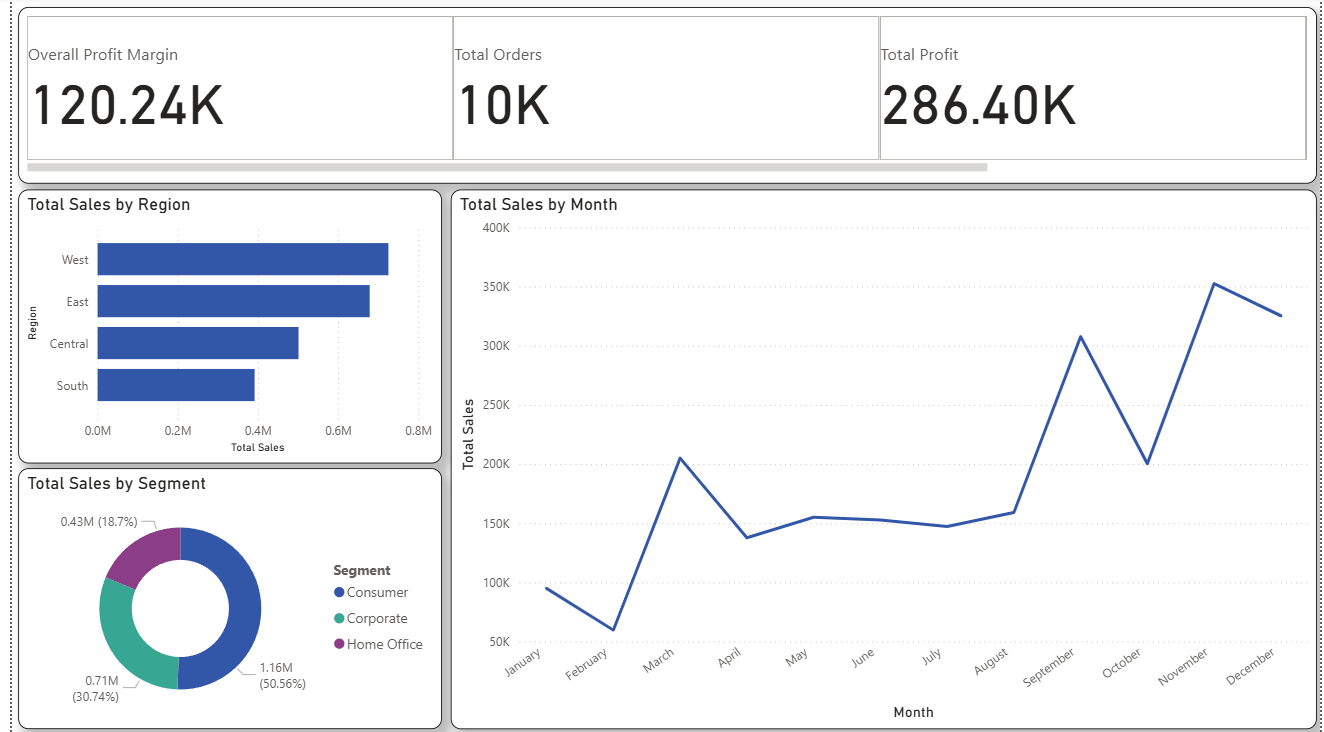

The dashboard page shown, as its layout file describes it:
{"tool":"powerbi","page":{"name":"Executive Overview","canvas":[1280,720],"ordinal":0},"visuals":[{"type":"cardVisual","fields":{"Data":["KPI.Overall Profit Margin","KPI.Total Orders","KPI.Total Profit","KPI.Total Sales"]},"box":[6.1,9.8,1270.5,172.4],"z":0},{"type":"barChart","fields":{"Y":["KPI.Total Sales"],"Category":["superstore_clean.Region"]},"box":[6.1,188.3,414.5,267.8],"z":1000},{"type":"donutChart","fields":{"Y":["KPI.Total Sales"],"Category":["superstore_clean.Segment"]},"box":[6.1,461,414.5,255.6],"z":2000},{"type":"lineChart","fields":{"Y":["KPI.Total Sales"],"Category":["superstore_clean.Order Date.Variation.Date Hierarchy.Year","superstore_clean.Order Date.Variation.Date Hierarchy.Quarter","superstore_clean.Order Date.Variation.Date Hierarchy.Month","superstore_clean.Order Date.Variation.Date Hierarchy.Day"]},"box":[429.2,188.3,847.4,528.3],"z":3000}]}

Visuals, with their boxes in screenshot pixels (x1, y1, x2, y2), scaled from the page's 1280x720 canvas onto the 1324x732 screenshot:
cardVisual - KPI.Overall Profit Margin x KPI.Total Orders: <bbox>6, 10, 1320, 185</bbox>
barChart - KPI.Total Sales x superstore_clean.Region: <bbox>6, 191, 435, 464</bbox>
donutChart - KPI.Total Sales x superstore_clean.Segment: <bbox>6, 469, 435, 729</bbox>
lineChart - KPI.Total Sales x superstore_clean.Order Date.Variation.Date Hierarchy.Year: <bbox>444, 191, 1320, 729</bbox>
